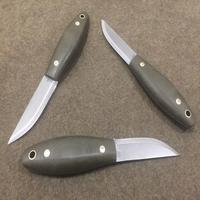knife: (97, 11, 197, 136), (4, 15, 87, 151), (14, 134, 187, 169)
